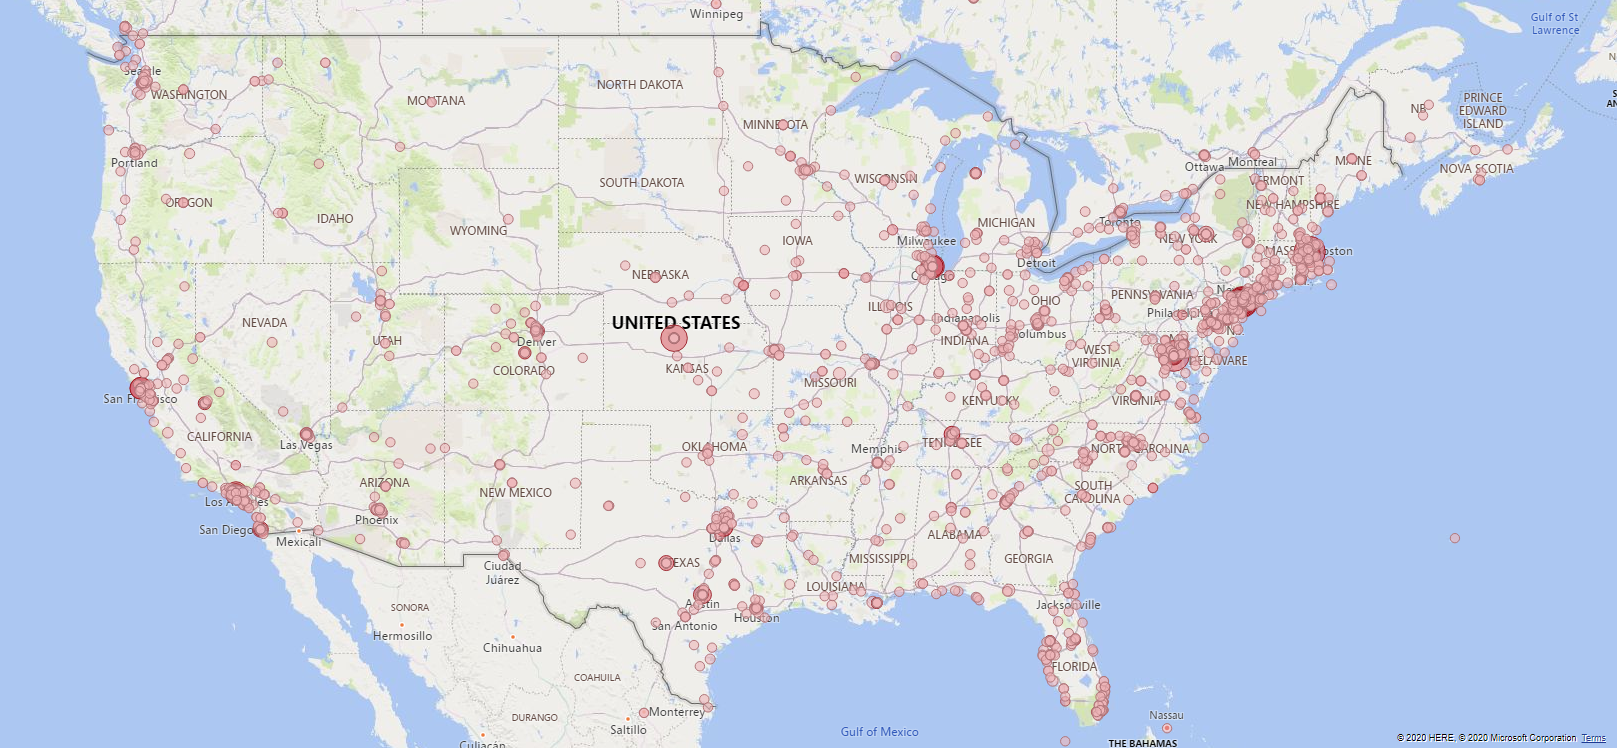

What the dashboard file says about the page in this screenshot:
{"tool":"powerbi","page":{"name":"Page 1","canvas":[1280,720],"ordinal":0},"visuals":[{"type":"map","fields":{"Category":["adited location counts.Location"],"Size":["Sum(adited location counts.Count)"]},"box":[9.7,0,1270.3,720.2],"z":0}]}

Visuals, with their boxes on the page's 1280x720 design canvas (x1, y1, x2, y2). These are canvas units, not pixel positions in the 1617x748 screenshot, which may show the page scaled, cropped or inside an application window:
map - adited location counts.Location x Sum(adited location counts.Count): pyautogui.locateOnScreen(10, 0, 1280, 720)
